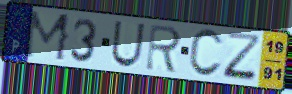3: (69, 17, 99, 64)
C: (187, 28, 225, 79)
M: (22, 9, 73, 64)
R: (143, 23, 184, 76)
U: (109, 19, 147, 69)
Z: (221, 31, 264, 84)
